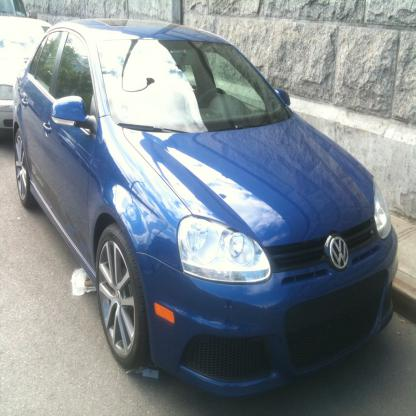Car: (13, 19, 398, 396)
